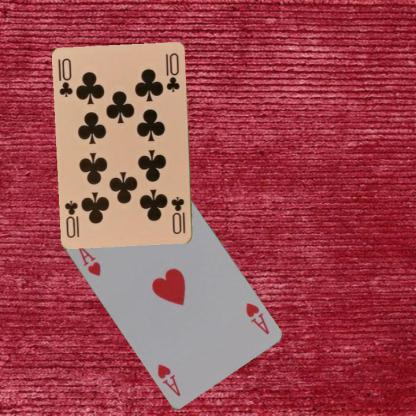10c: (56, 56, 74, 99), (169, 194, 187, 236)
Ah: (74, 242, 102, 279), (243, 300, 270, 336)
